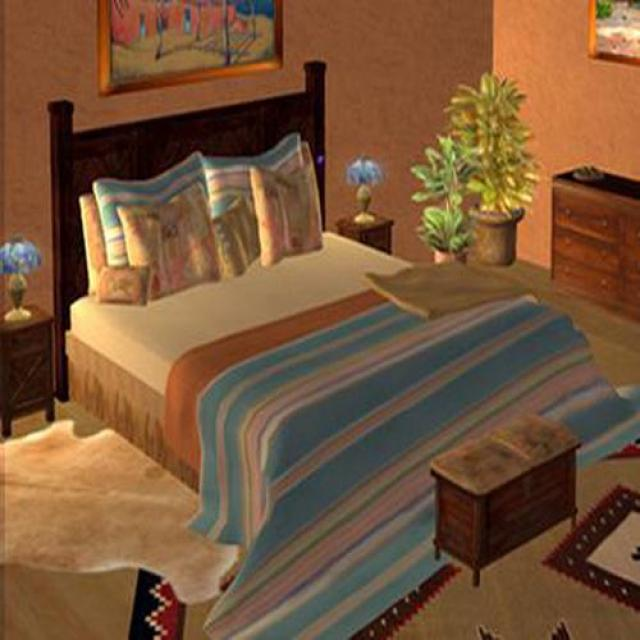bed: (50, 59, 640, 640)
